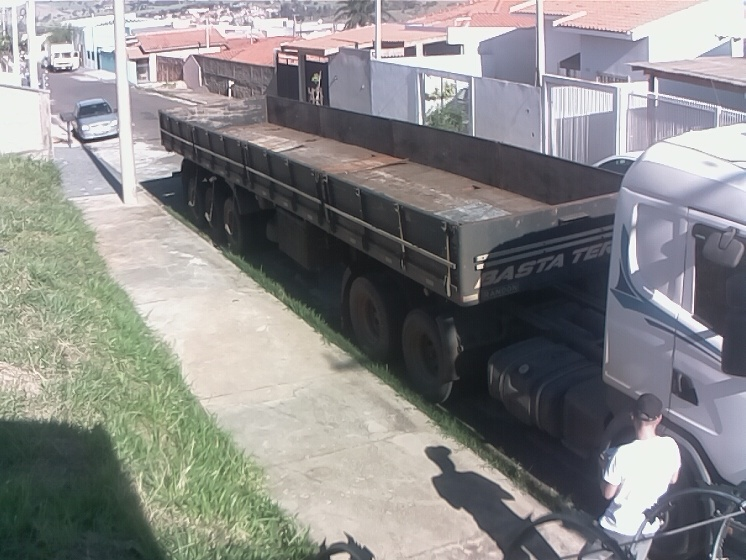person: (575, 391, 684, 560)
